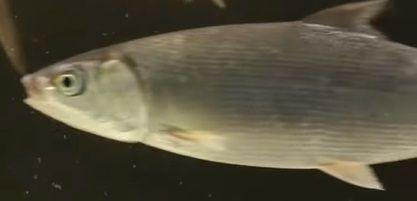Bangus: (20, 1, 417, 192)
